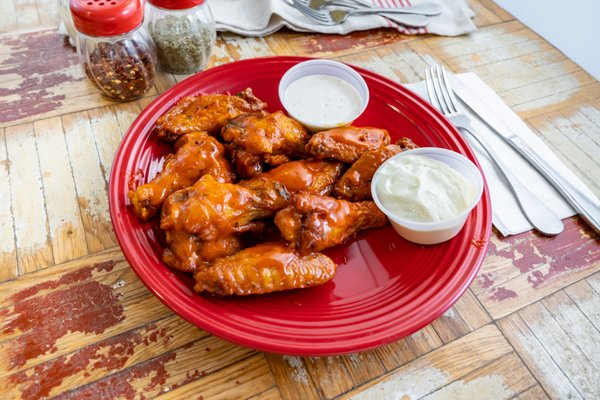burger: (426, 61, 558, 238)
sushi: (370, 146, 484, 245), (278, 59, 369, 133)
